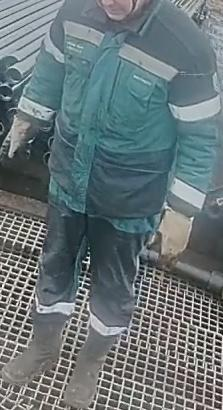gloves: (143, 199, 195, 275), (0, 110, 42, 173)
vest: (46, 7, 185, 218)
